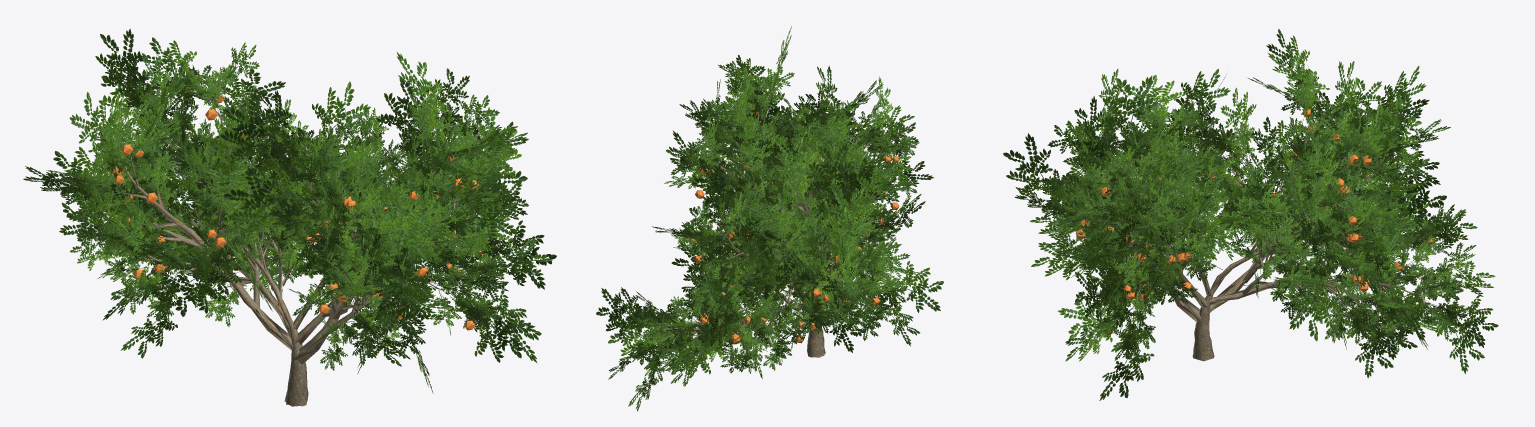
Rendered from tree_peach_tree.glb.
3 views of the same model, side by side, from view 1: azimuth 30°, elevation 25°; view 2: azimuth 150°, elevation 25°; view 3: azimuth 270°, elevation 25° (orthographic). The views are drawn at different scales.
Visible parts, largest first — view 1: LOD1_leaves, LOD0_leaves, LOD0_trunk, LOD1_trunk, LOD0_fruit; view 2: LOD1_leaves, LOD0_leaves, LOD0_trunk, LOD0_fruit, LOD1_trunk; view 3: LOD1_leaves, LOD0_leaves, LOD0_trunk, LOD1_trunk, LOD0_fruit, LOD1_fruit.
Boxes of the visible parts, x1,y1,x2,y2 form: LOD1_leaves: [23, 28, 556, 393]; LOD0_leaves: [62, 64, 517, 370]; LOD0_trunk: [121, 111, 455, 406]; LOD1_trunk: [116, 102, 462, 406]; LOD0_fruit: [111, 95, 482, 330]; LOD1_leaves: [596, 26, 943, 411]; LOD0_leaves: [625, 55, 919, 381]; LOD0_trunk: [661, 101, 881, 357]; LOD0_fruit: [689, 108, 899, 342]; LOD1_trunk: [663, 94, 879, 357]; LOD1_leaves: [1003, 29, 1498, 400]; LOD0_leaves: [1041, 65, 1467, 364]; LOD0_trunk: [1091, 111, 1422, 361]; LOD1_trunk: [1091, 113, 1428, 360]; LOD0_fruit: [1076, 95, 1433, 334]; LOD1_fruit: [1076, 110, 1402, 300].
Size of the model in its own units: 5.71 by 4.85 by 7.34.
3 materials, 2 textured.
